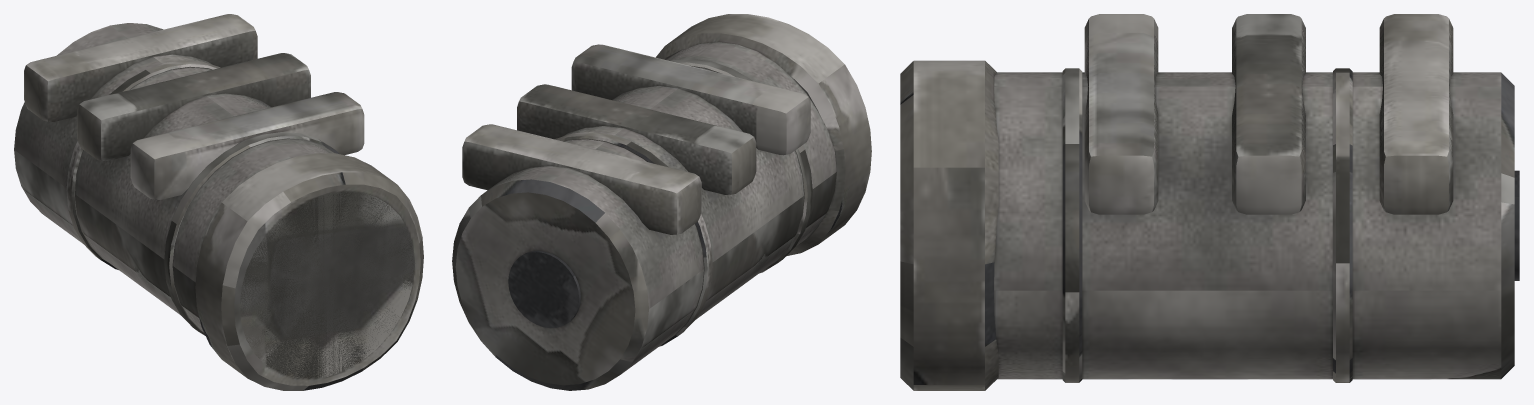
The model's file is compensator.glb.
3 renders of one model, left to right at view 1: azimuth 30°, elevation 25°; view 2: azimuth 150°, elevation 25°; view 3: azimuth 270°, elevation 25°, orthographic. The views are drawn at different scales.
Parts seen in each view (by area): view 1: body, collar, port_a, port_b, port_c, body_seam, body_seam.001; view 2: body, collar, port_c, port_a, port_b, bore, body_seam.001, body_seam; view 3: body, collar, port_a, port_c, port_b, body_seam, body_seam.001, bore.
Part boxes in pixels (x1,y1,x2,y2): body: (14,23,415,378); collar: (195,153,423,390); port_a: (130,92,364,199); port_b: (77,53,310,160); port_c: (24,14,257,121); body_seam: (164,132,339,335); body_seam.001: (66,60,220,269); body: (452,42,836,390); collar: (656,14,871,256); port_c: (462,124,701,234); port_a: (571,44,810,155); port_b: (517,84,756,194); bore: (508,250,580,328); body_seam.001: (555,132,712,346); body_seam: (670,58,812,273); body: (994,72,1514,379); collar: (900,60,998,390); port_a: (1084,14,1158,214); port_c: (1379,14,1453,214); port_b: (1232,14,1305,214); body_seam: (1062,68,1082,382); body_seam.001: (1333,68,1352,382); bore: (1514,170,1519,280).
Bounding box in the file's own units: 0.028 × 0.0264 × 0.0504.
1 material, 1 textured.
